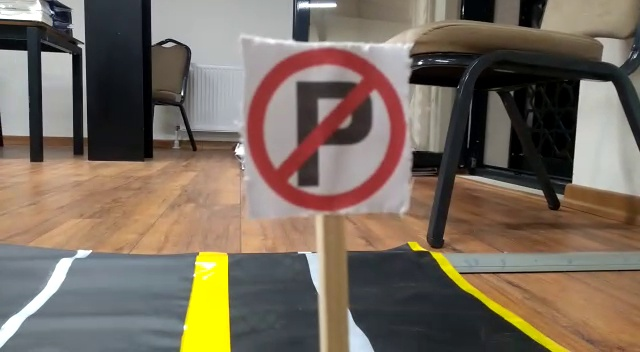park_yapilmaz: (238, 39, 410, 213)
